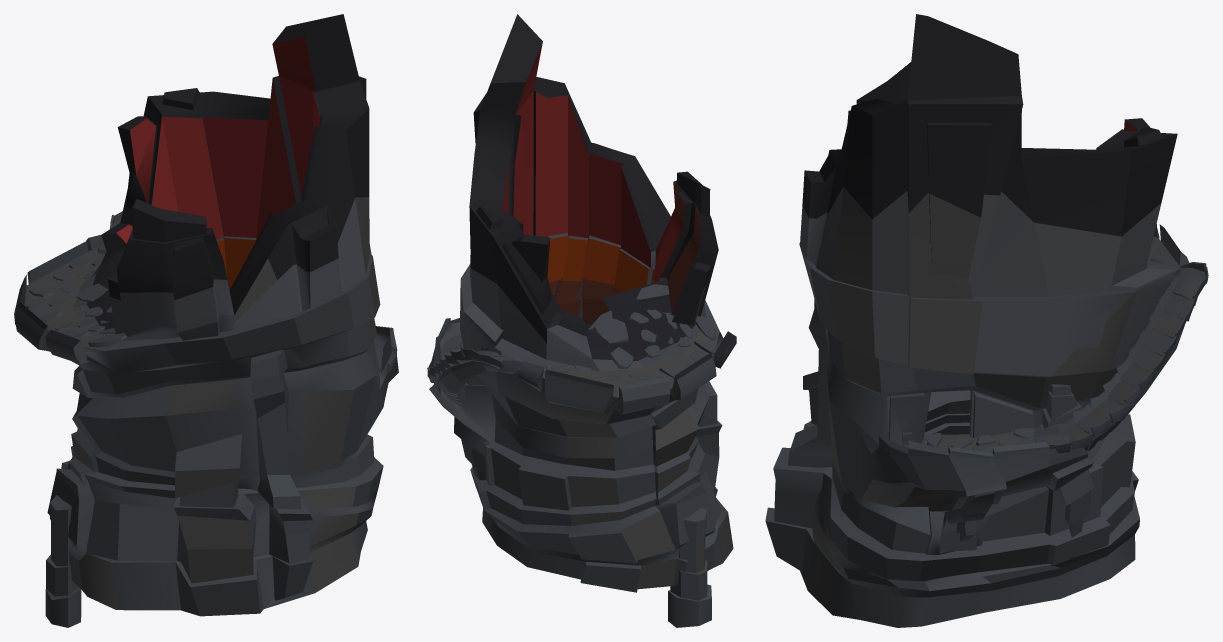
3 views of the same model, side by side, from view 1: azimuth 30°, elevation 25°; view 2: azimuth 150°, elevation 25°; view 3: azimuth 270°, elevation 25° (orthographic). The views are drawn at different scales.
Visible parts, largest first — view 1: segment_4; view 2: segment_4; view 3: segment_4.
Boxes of the visible parts, bbox=[...] form: segment_4: bbox=[14, 14, 398, 627]; segment_4: bbox=[427, 14, 736, 627]; segment_4: bbox=[765, 14, 1208, 627].
Bounding box in the file's own units: 34.09 × 56.7 × 33.48.
